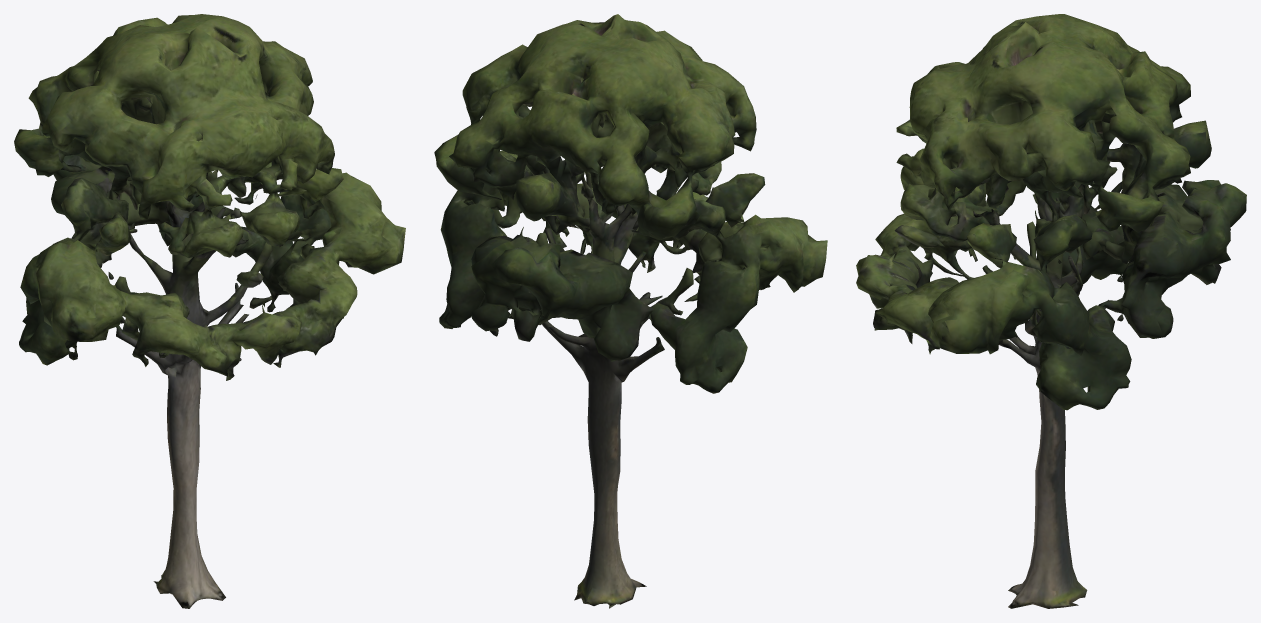
The model's file is baum_original.glb.
3 views of the same model, side by side, from view 1: azimuth 30°, elevation 25°; view 2: azimuth 150°, elevation 25°; view 3: azimuth 270°, elevation 25° (orthographic).
Size of the model in its own units: 1.26 by 1.99 by 1.22.
1 material, 1 textured.
